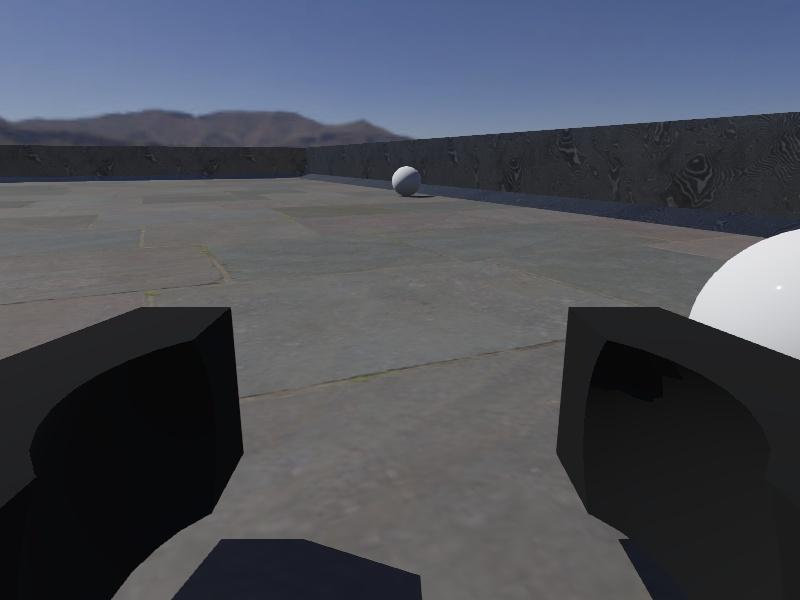white ball: (391, 165, 423, 198)
